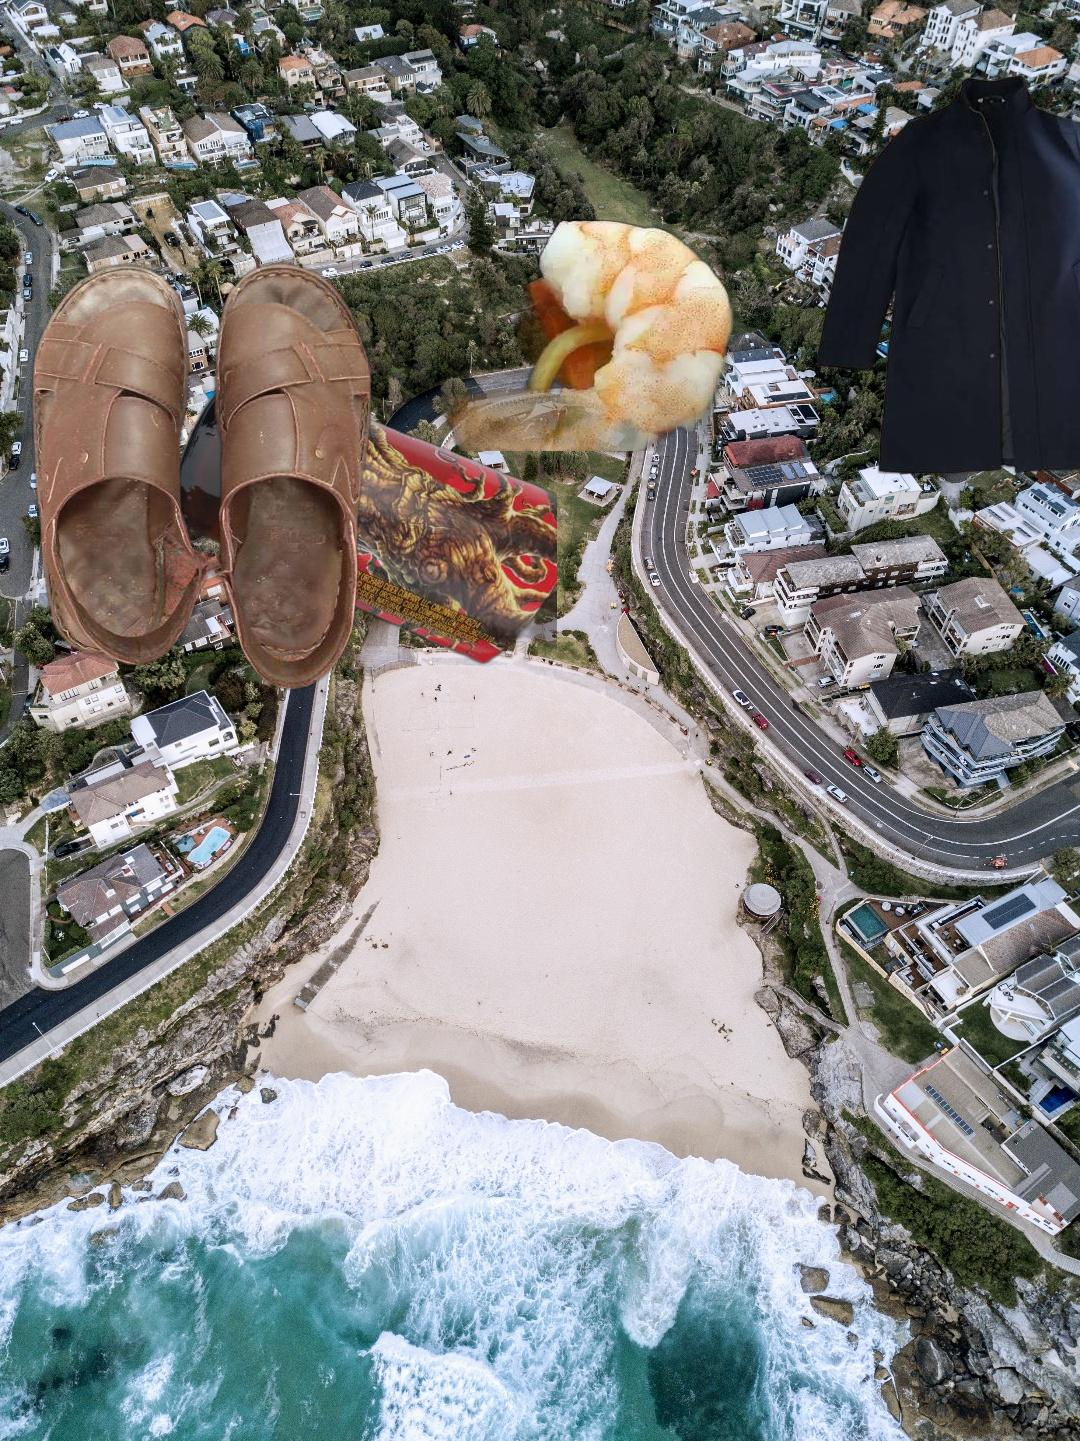biological: (441, 211, 845, 450)
clothes: (817, 70, 1080, 583)
glass: (166, 370, 557, 667)
shoes: (28, 258, 376, 694)
